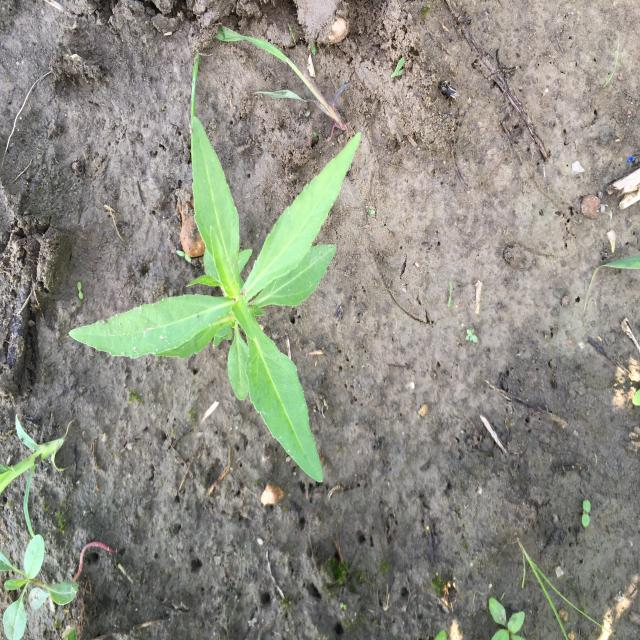Eclipta: (65, 112, 365, 488)
Waterhemp: (1, 532, 78, 640)
